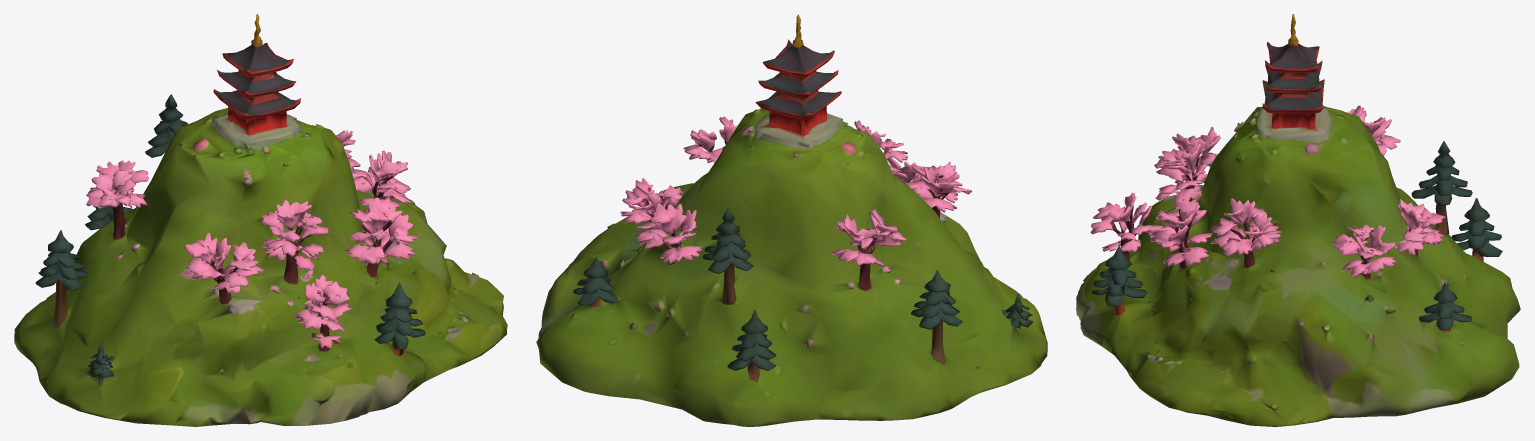
File: env_japan_pagodahill.fbx
3 views of the same model, side by side, from view 1: azimuth 30°, elevation 25°; view 2: azimuth 150°, elevation 25°; view 3: azimuth 270°, elevation 25° (orthographic). The views are drawn at different scales.
Visible parts, largest first — view 1: env_japan_pagodahill_LOD0; view 2: env_japan_pagodahill_LOD0; view 3: env_japan_pagodahill_LOD0.
Part boxes in pixels (<box>): env_japan_pagodahill_LOD0: <box>14,14,507,426</box>; env_japan_pagodahill_LOD0: <box>536,14,1047,426</box>; env_japan_pagodahill_LOD0: <box>1076,14,1520,426</box>.
Size of what is drawn, in the model's own units: 0.9805 by 0.677 by 0.8816.
